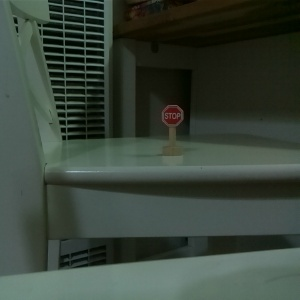stop sign: (159, 103, 185, 159)
